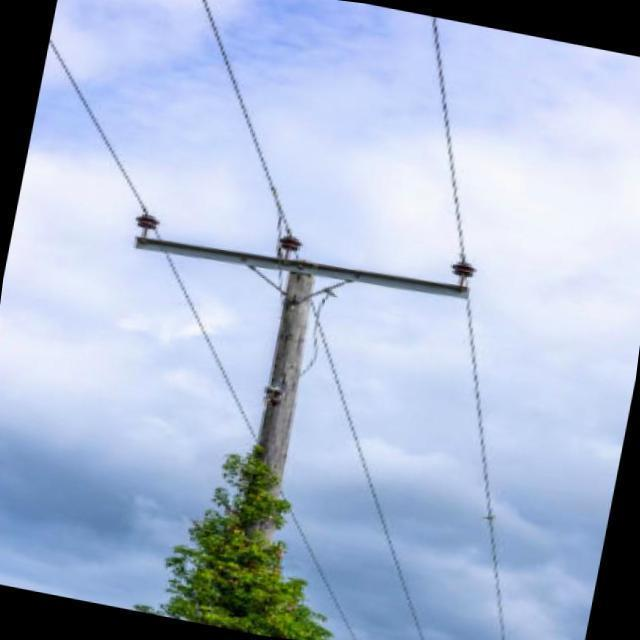critical vegetation: (174, 426, 329, 640)
